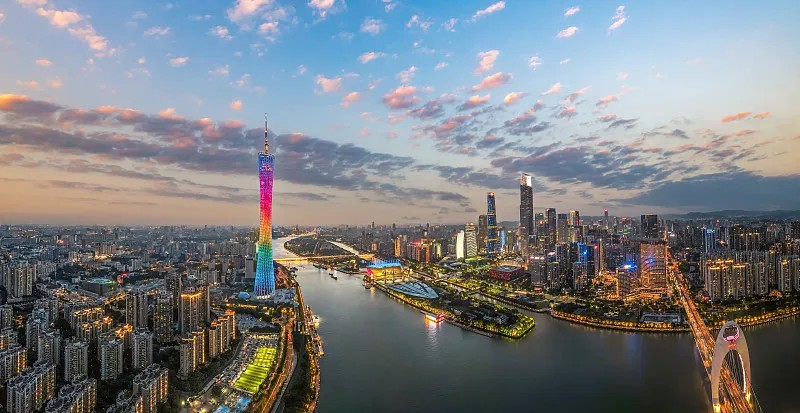Canton: (255, 114, 275, 297)
